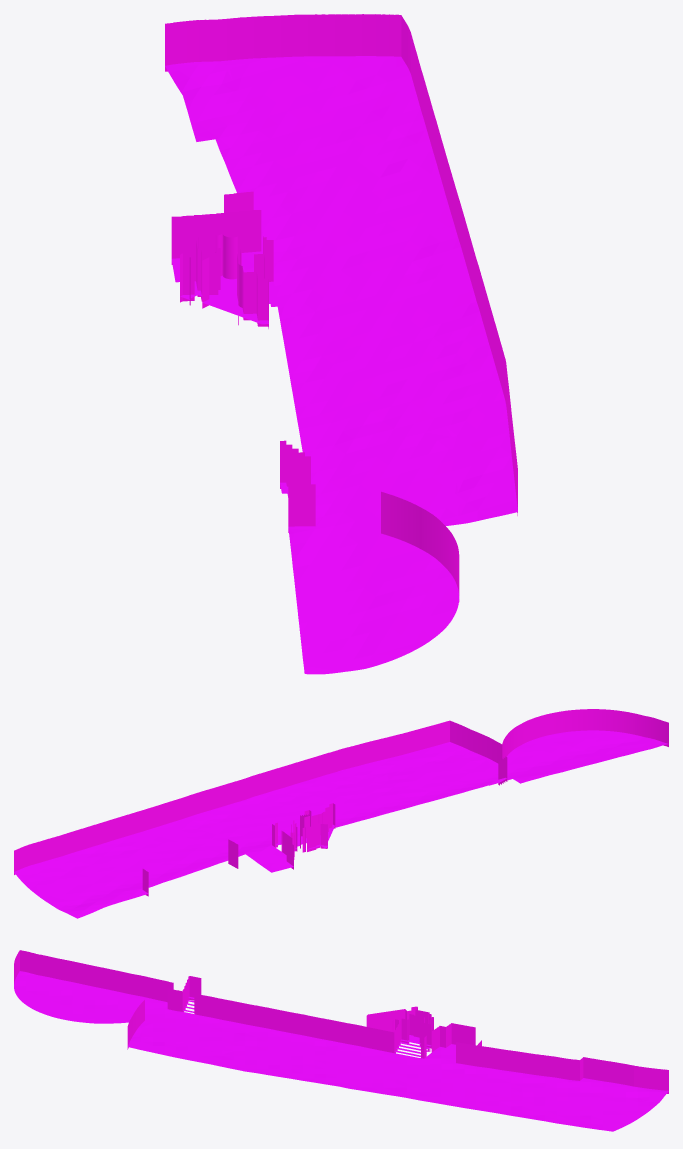
Rendered from nav.glb.
3 views of the same model, one above another, from view 1: azimuth 30°, elevation 25°; view 2: azimuth 150°, elevation 25°; view 3: azimuth 270°, elevation 25° (orthographic). The views are drawn at different scales.
Visible parts, largest first — view 1: nav/floor, nav/edge; view 2: nav/floor, nav/edge; view 3: nav/floor, nav/edge.
Boxes of the visible parts, x1=… form: nav/floor: x1=165, y1=56, x2=517, y2=674; nav/edge: x1=165, y1=14, x2=517, y2=601; nav/floor: x1=14, y1=730, x2=668, y2=918; nav/edge: x1=14, y1=709, x2=668, y2=896; nav/floor: x1=14, y1=971, x2=668, y2=1131; nav/edge: x1=14, y1=950, x2=668, y2=1093.
Bounding box in the file's own units: 34.5 × 3.46 × 56.76.
